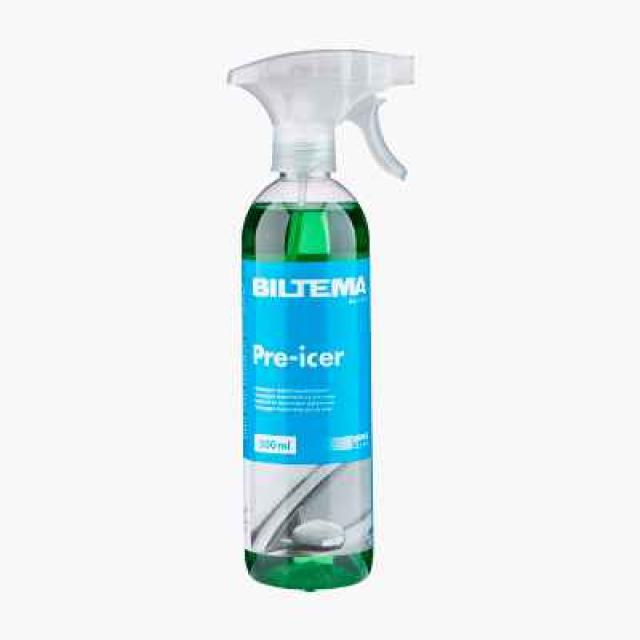winwinshield_washer: (221, 45, 425, 594)
